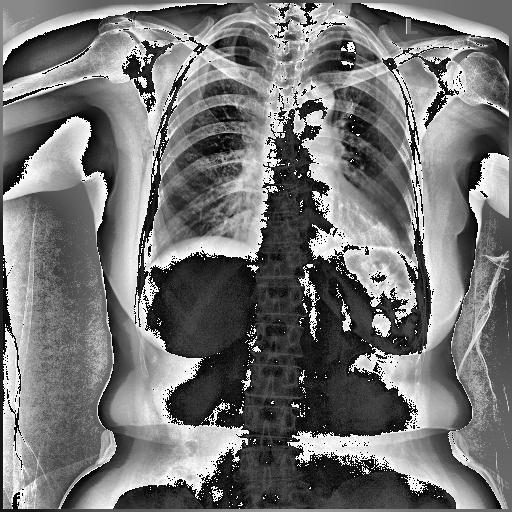0- Aortic enlargement: (296, 79, 335, 133), (294, 79, 336, 123), (294, 82, 335, 126)
3- Cardiomegaly: (243, 208, 402, 272), (248, 205, 402, 252), (246, 214, 405, 254)
